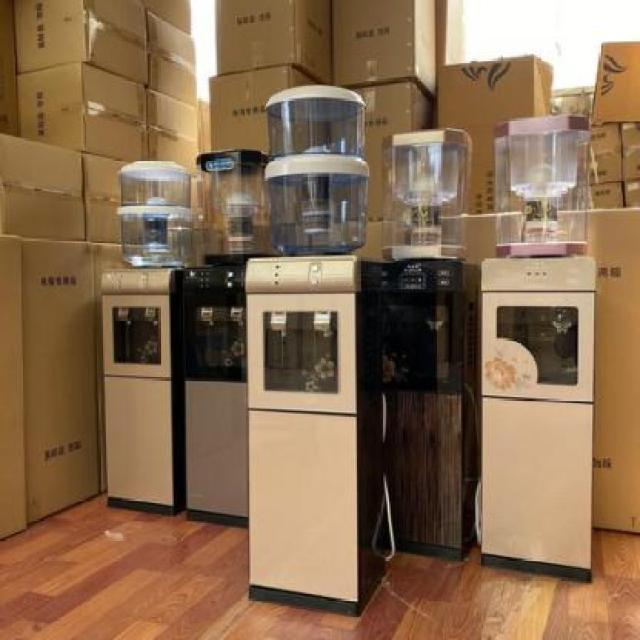cooler: (248, 83, 386, 614), (478, 112, 598, 588), (101, 158, 197, 514)
